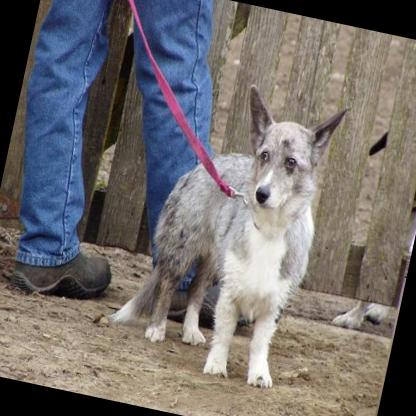Cardigan: (99, 58, 348, 390)
